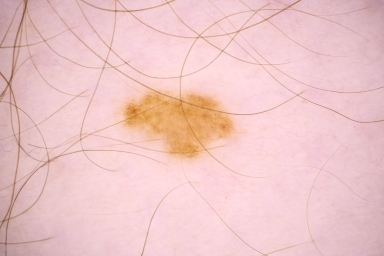nevus: (126, 93, 231, 158)
